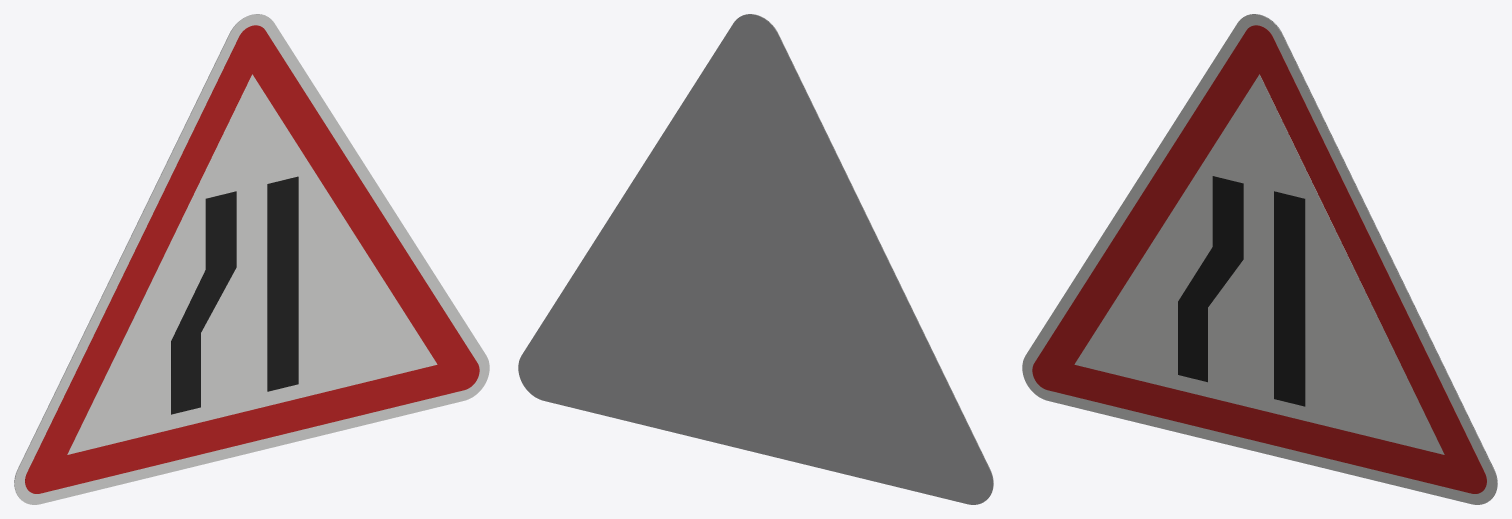
The picture shows the model from 3 angles, left to right: view 1: azimuth 30°, elevation 25°; view 2: azimuth 150°, elevation 25°; view 3: azimuth 330°, elevation 25°; orthographic projection.
Parts seen in each view (by area): view 1: A3b_p02, A3b_p01, A3b_p00, A3b_p04, A3b_p03, A3b_dos; view 2: A3b_dos, A3b_p00; view 3: A3b_p02, A3b_p01, A3b_p00, A3b_p04, A3b_p03, A3b_dos.
Boxes of the visible parts, x1,y1,x2,y2 form: A3b_p02: [67, 74, 437, 454]; A3b_p01: [25, 25, 479, 493]; A3b_p00: [14, 14, 489, 504]; A3b_p04: [267, 176, 298, 391]; A3b_p03: [171, 191, 236, 414]; A3b_dos: [14, 14, 265, 500]; A3b_dos: [518, 14, 993, 504]; A3b_p00: [742, 14, 993, 500]; A3b_p02: [1074, 74, 1444, 454]; A3b_p01: [1032, 25, 1486, 493]; A3b_p00: [1022, 14, 1497, 504]; A3b_p04: [1274, 191, 1305, 406]; A3b_p03: [1178, 176, 1243, 382]; A3b_dos: [1246, 14, 1497, 500].
Size of the model in its own units: 1 by 0.8803 by 0.0035.
